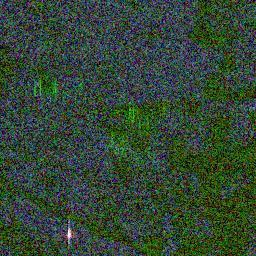Ship: (61, 225, 77, 242)
